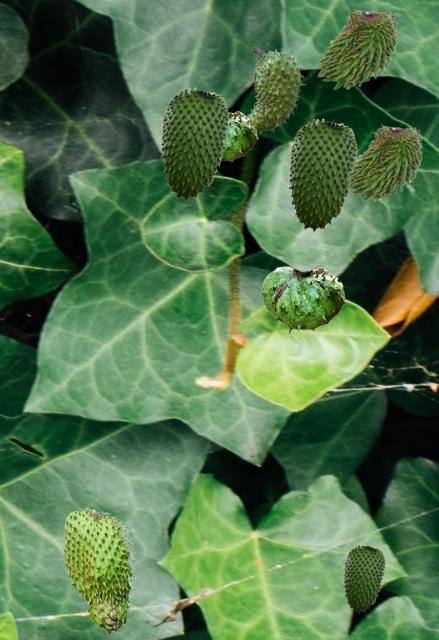guyabano: (61, 507, 136, 633), (288, 118, 356, 231), (160, 87, 228, 200), (316, 7, 397, 88), (345, 123, 422, 200), (260, 266, 345, 333), (246, 47, 305, 133), (343, 544, 384, 612), (221, 110, 257, 162)
